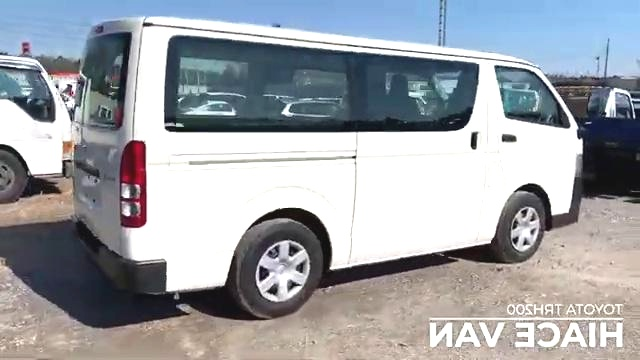van: (69, 19, 582, 316)
